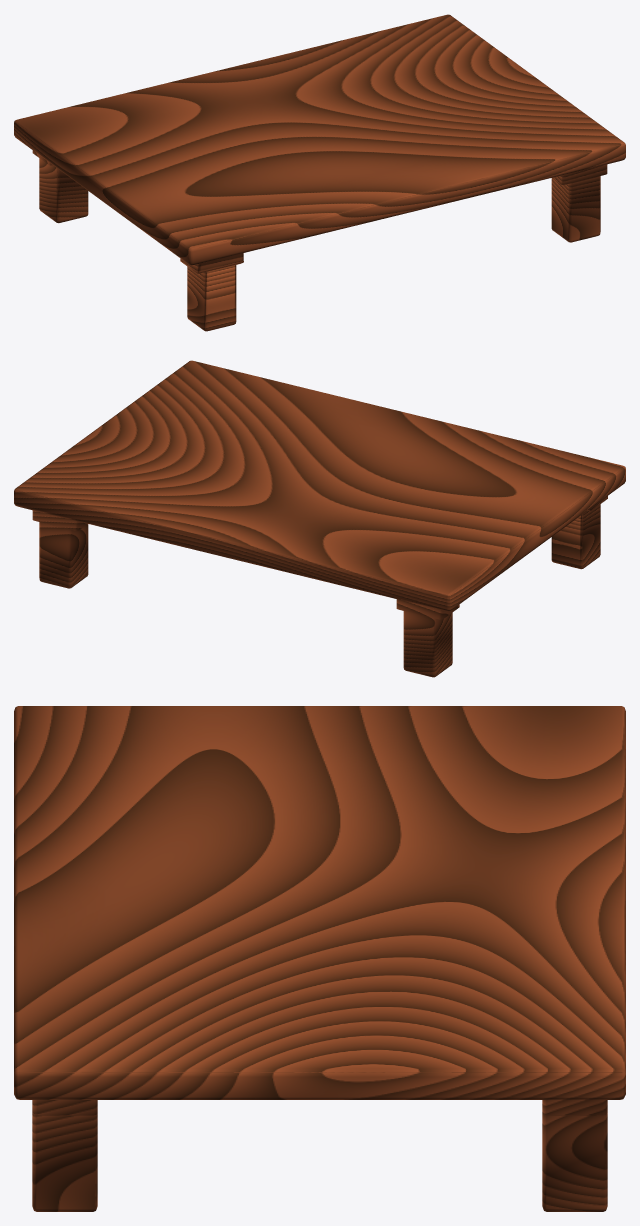
Rendered from TABLE.glb.
3 views of the same model, one above another, from view 1: azimuth 30°, elevation 25°; view 2: azimuth 150°, elevation 25°; view 3: azimuth 270°, elevation 25° (orthographic). The views are drawn at different scales.
Visible parts, largest first — view 1: Plane; view 2: Plane; view 3: Plane.
Part boxes in pixels (bbox=[...]): Plane: bbox=[14, 14, 625, 331]; Plane: bbox=[14, 360, 625, 677]; Plane: bbox=[14, 706, 625, 1211].
Bounding box in the file's own units: 2 × 0.4048 × 1.41.
1 material, 1 textured.
